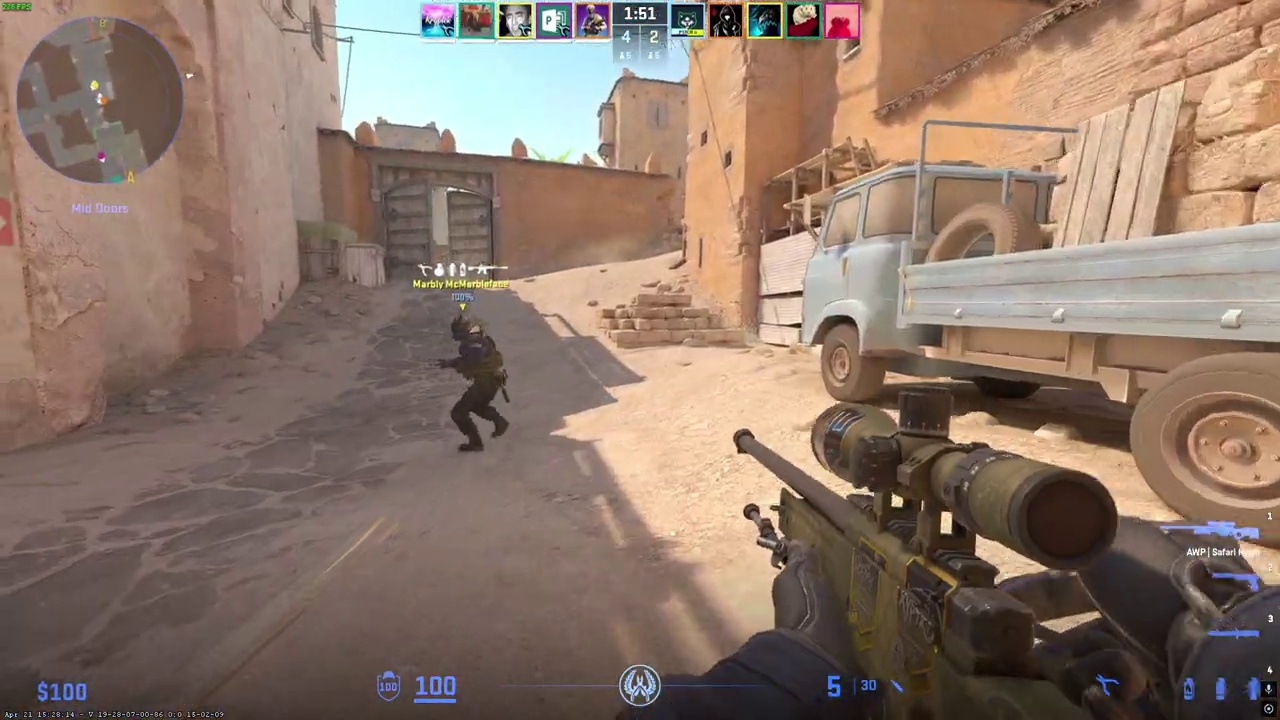CT: (446, 314, 506, 452)
